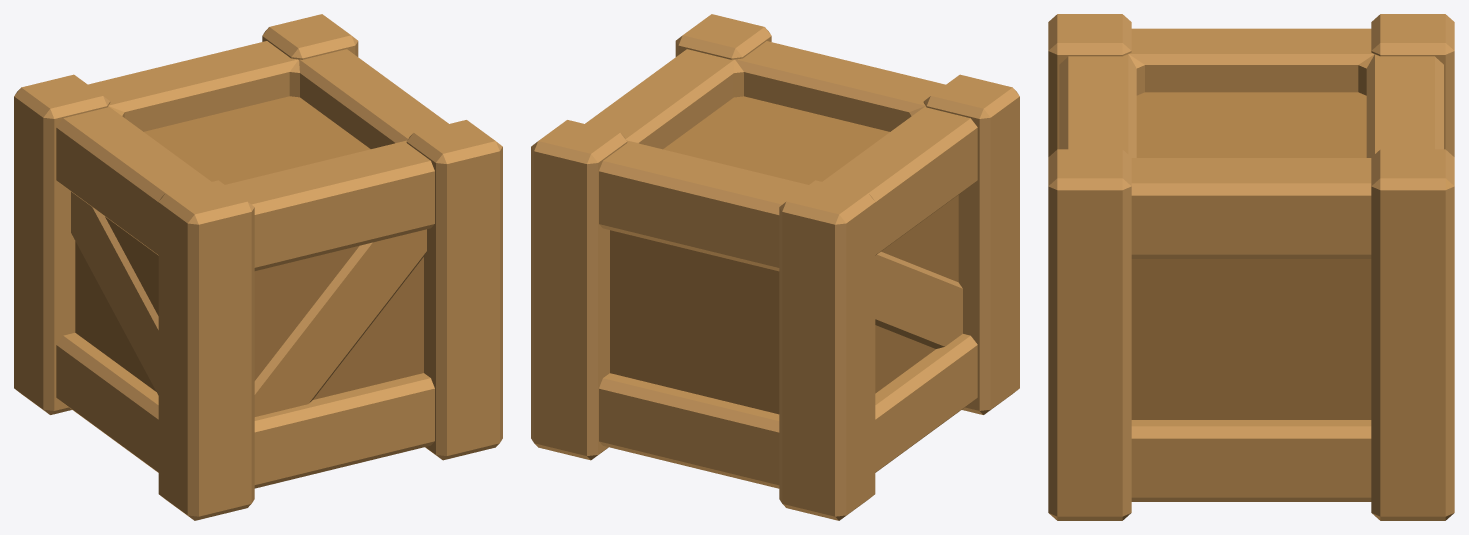
The model's file is OB_Wood_Box_1.fbx.
3 renders of one model, left to right at view 1: azimuth 30°, elevation 25°; view 2: azimuth 150°, elevation 25°; view 3: azimuth 270°, elevation 25°, orthographic. The views are drawn at different scales.
Visible parts, largest first — view 1: OB_Wood_Box_1; view 2: OB_Wood_Box_1; view 3: OB_Wood_Box_1.
Part boxes in pixels (bbox=[...]): OB_Wood_Box_1: bbox=[14, 14, 502, 520]; OB_Wood_Box_1: bbox=[531, 14, 1019, 520]; OB_Wood_Box_1: bbox=[1048, 14, 1454, 520].
Bounding box in the file's own units: 129 × 120 × 129.
